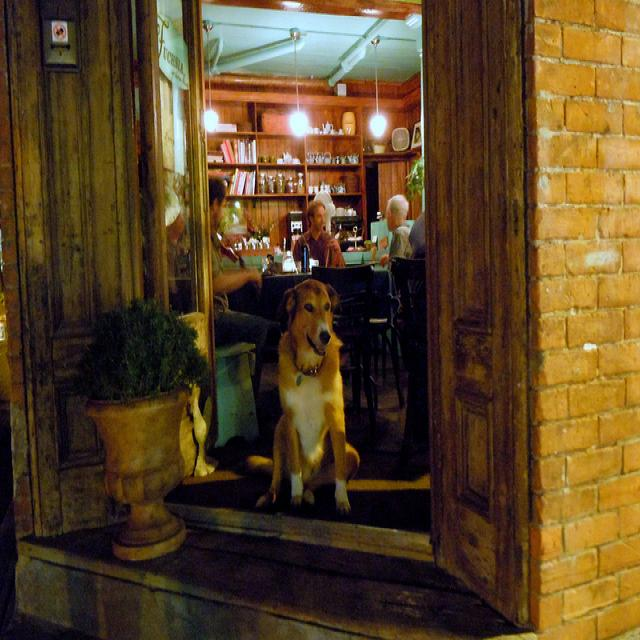chair: (312, 261, 375, 424), (391, 257, 430, 467), (365, 269, 409, 426), (219, 336, 263, 449)
dining table: (260, 272, 397, 327)
